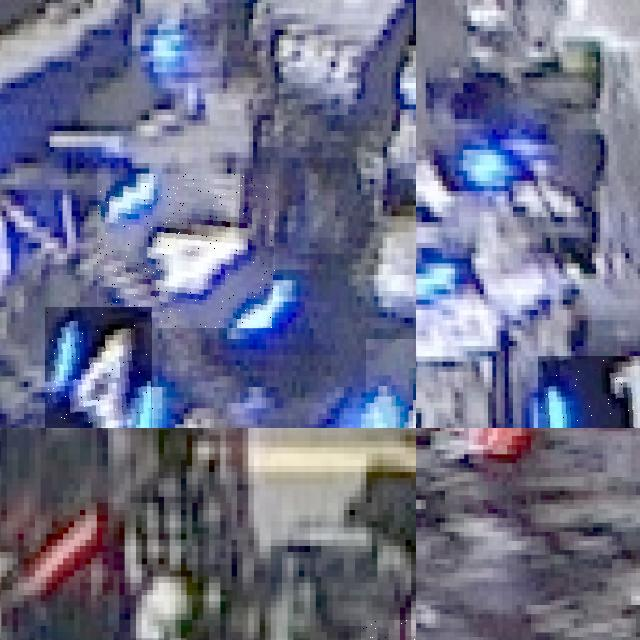B1: (538, 356, 640, 428)
R4: (97, 174, 275, 328), (45, 307, 153, 428), (365, 339, 416, 428)
